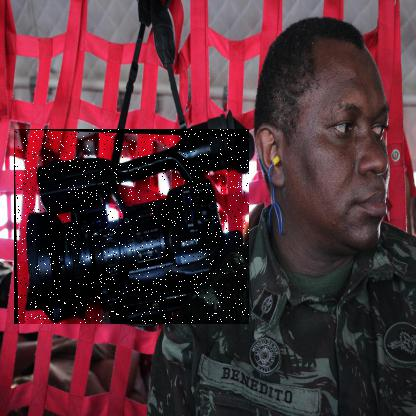Camera: (15, 130, 251, 326)
